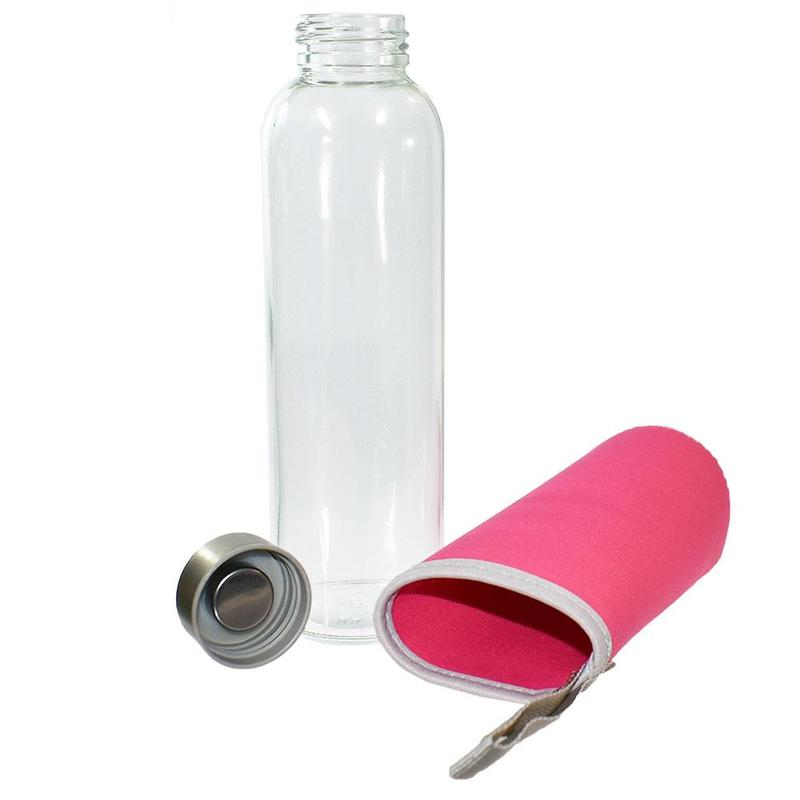glass_bottle: (260, 7, 451, 652)
